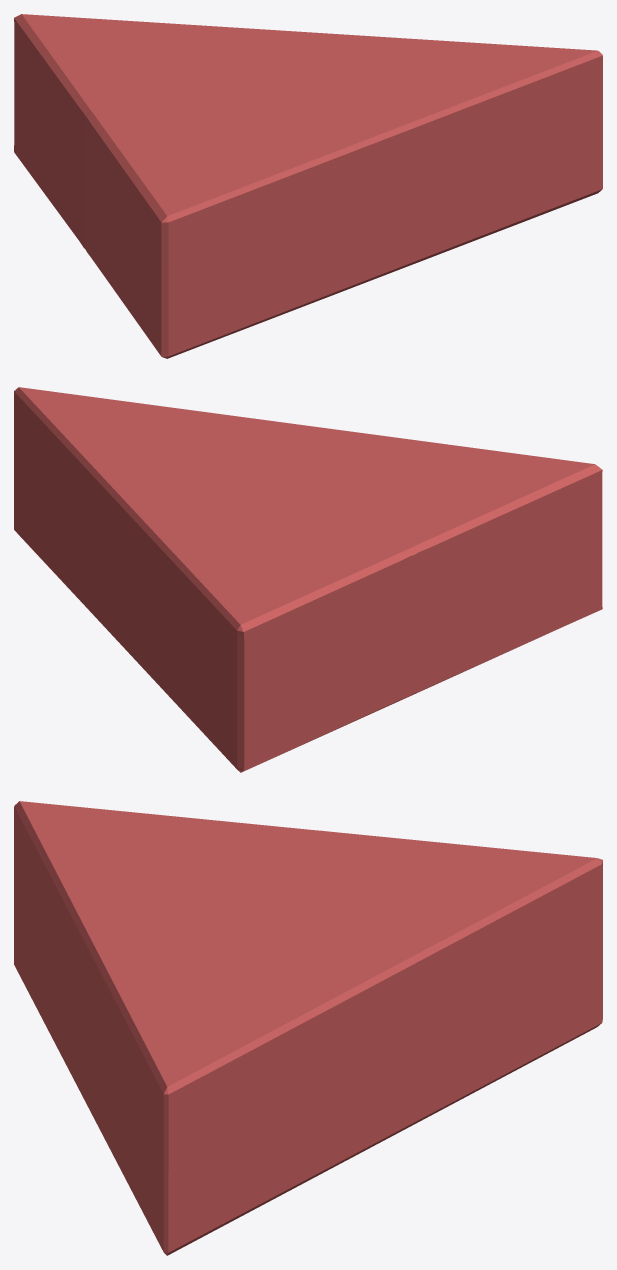
Rendered from Triangulo_03.fbx.
The picture shows the model from 3 angles, top to bottom: view 1: azimuth 30°, elevation 25°; view 2: azimuth 150°, elevation 25°; view 3: azimuth 270°, elevation 25°; orthographic projection. The views are drawn at different scales.
Visible parts, largest first — view 1: polySurface53; view 2: polySurface53; view 3: polySurface53.
Boxes of the visible parts, box(x1,y1,x2,y2) form: polySurface53: box(14, 14, 602, 358); polySurface53: box(14, 387, 602, 772); polySurface53: box(14, 801, 602, 1255).
Bounding box in the file's own units: 3.57 × 0.9676 × 3.05.
